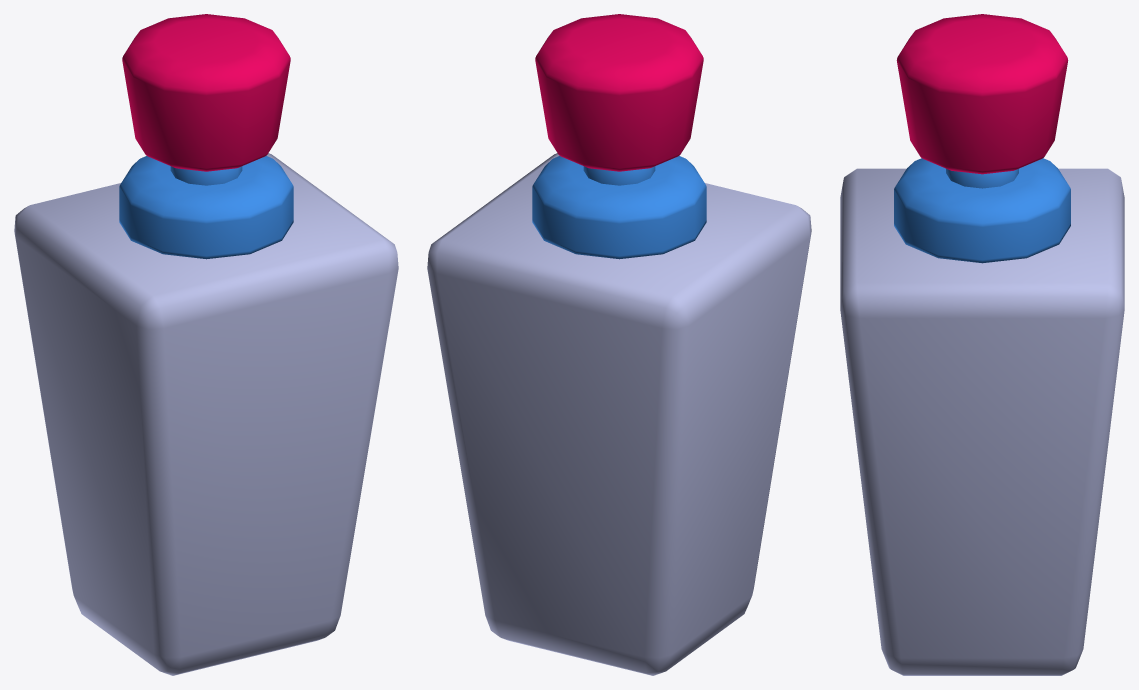
File: Perfume1.fbx
3 views of the same model, side by side, from view 1: azimuth 30°, elevation 25°; view 2: azimuth 150°, elevation 25°; view 3: azimuth 270°, elevation 25° (orthographic).
Parts seen in each view (by area): view 1: parfume1govde, parfume1kapak; view 2: parfume1govde, parfume1kapak; view 3: parfume1govde, parfume1kapak.
Part boxes in pixels (x1=…): parfume1govde: x1=14, y1=153, x2=398, y2=675; parfume1kapak: x1=122, y1=14, x2=290, y2=171; parfume1govde: x1=427, y1=153, x2=811, y2=675; parfume1kapak: x1=535, y1=14, x2=703, y2=171; parfume1govde: x1=840, y1=158, x2=1124, y2=675; parfume1kapak: x1=896, y1=14, x2=1068, y2=174.
Bounding box in the file's own units: 0.5215 × 1.12 × 0.4848.
